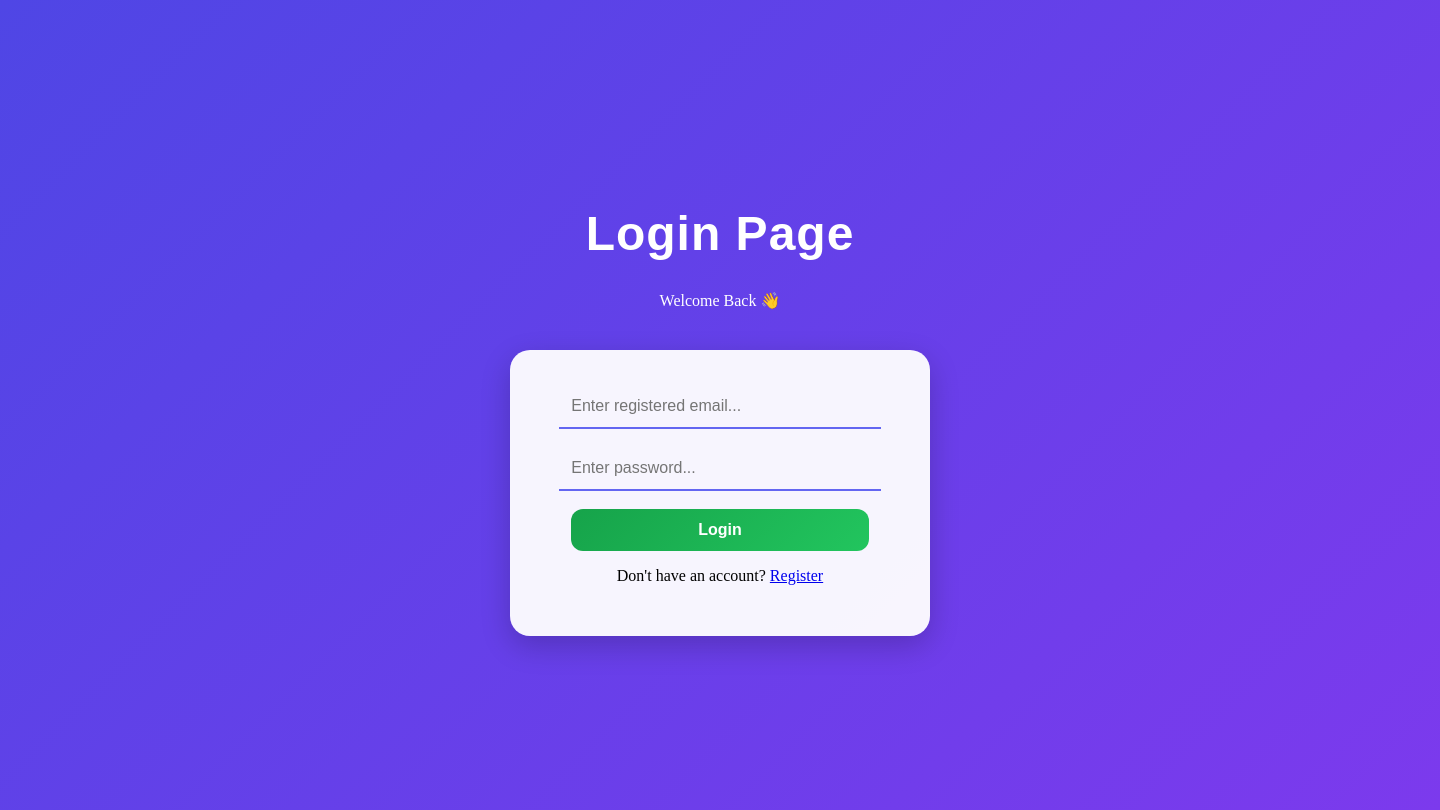
Test case: Login Component › shows validation errors
The image size is (1440, 810).
Step 1. Click the button "Login" → (720, 530), box [571,509,869,551]
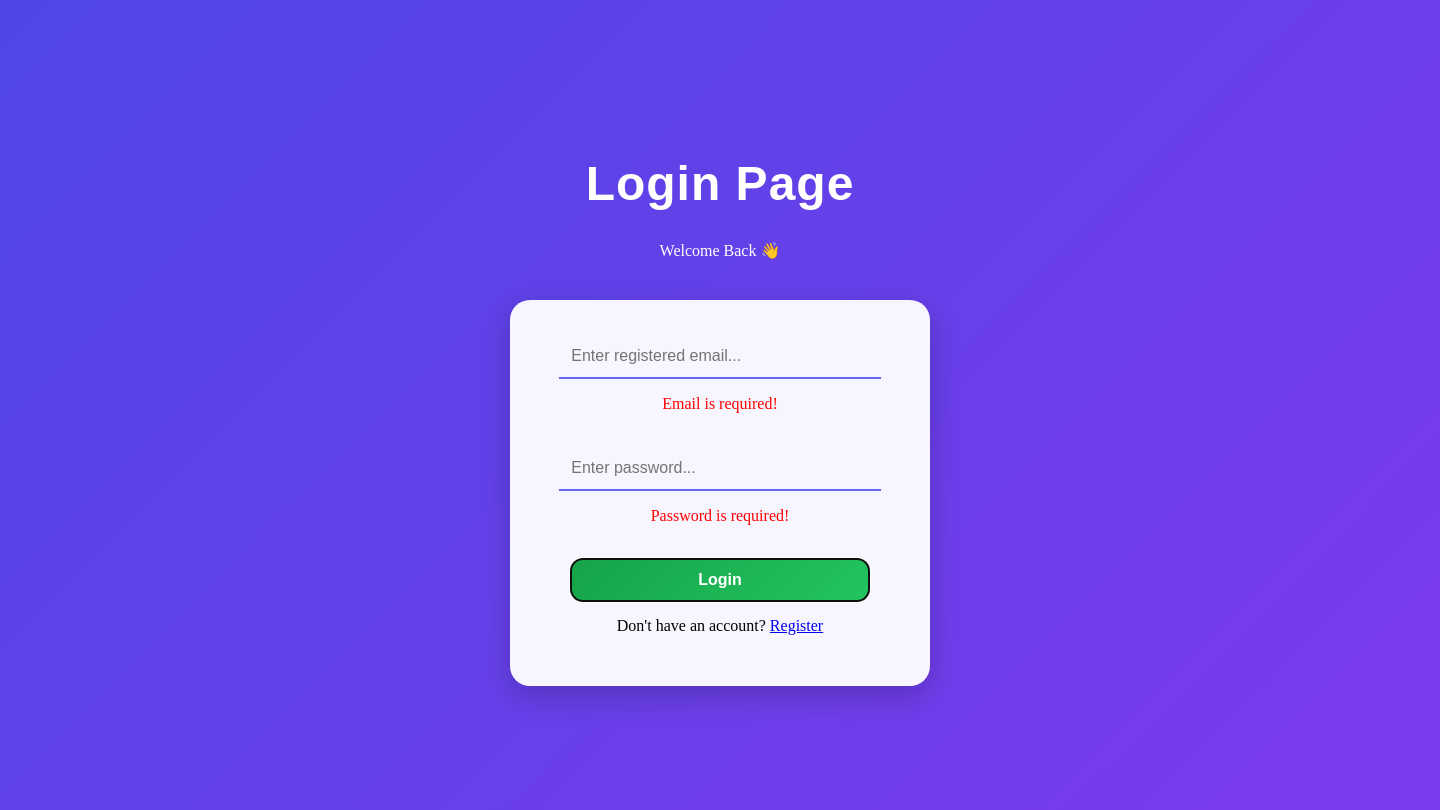
Check: the text "Email is required!" is shown, box [662,395,778,413]
Check: the text "Password is required!" is shown, box [651,507,789,525]
